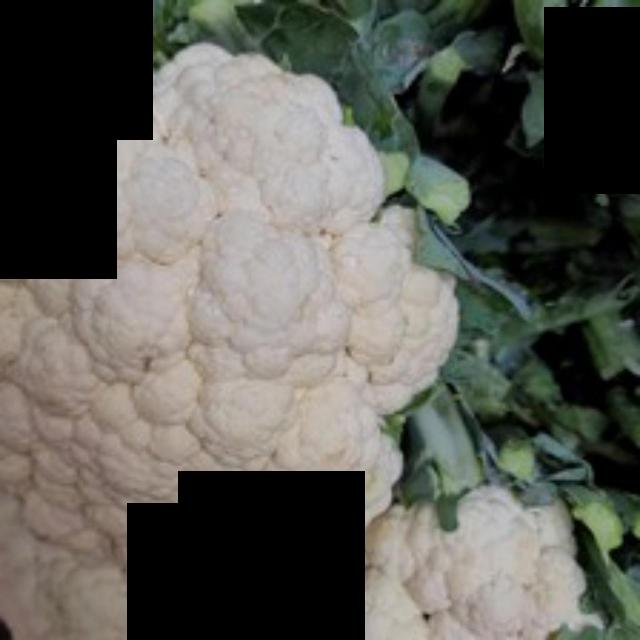cauliflower: (0, 46, 451, 636)
